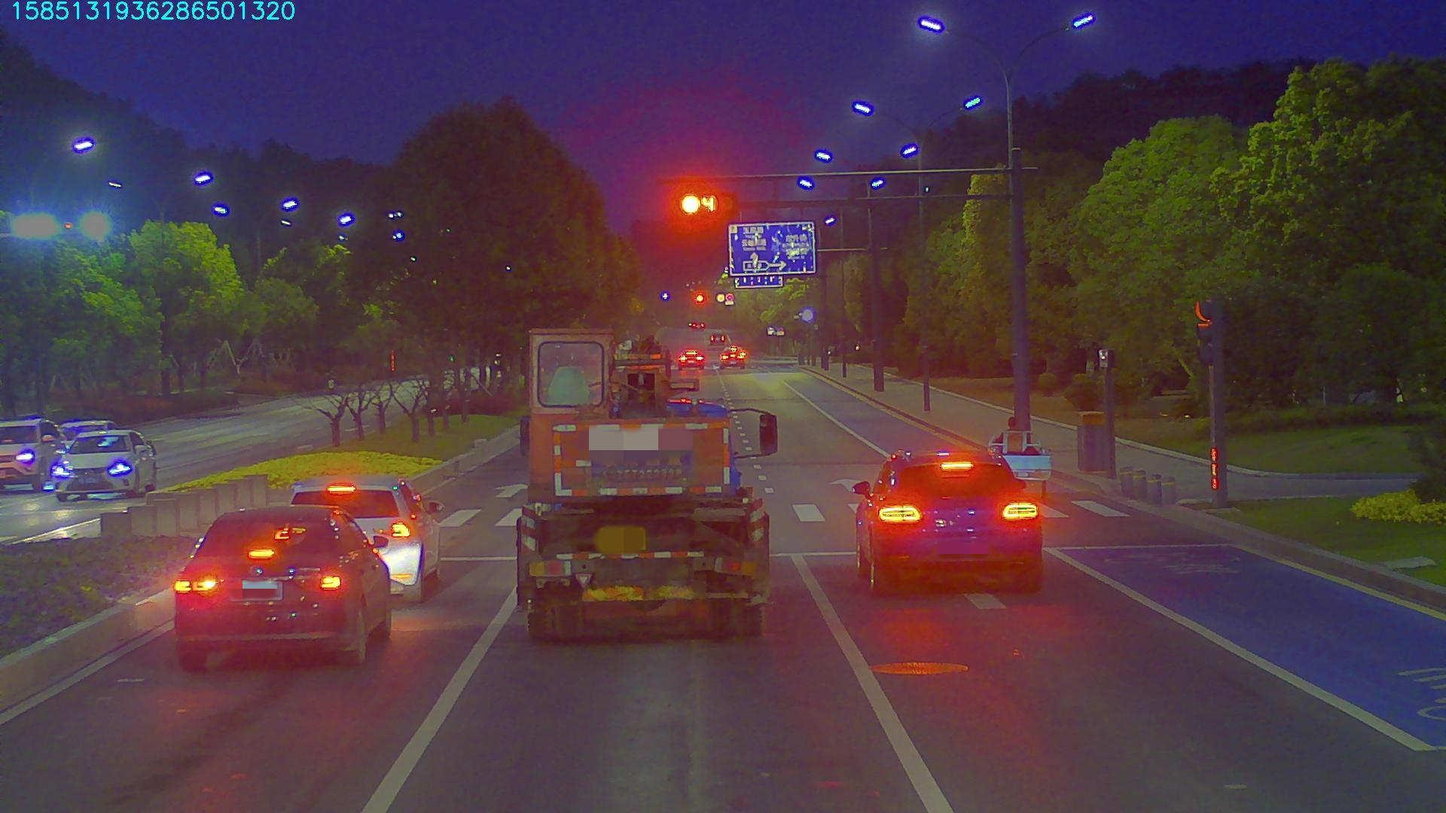red: (678, 184, 724, 218)
